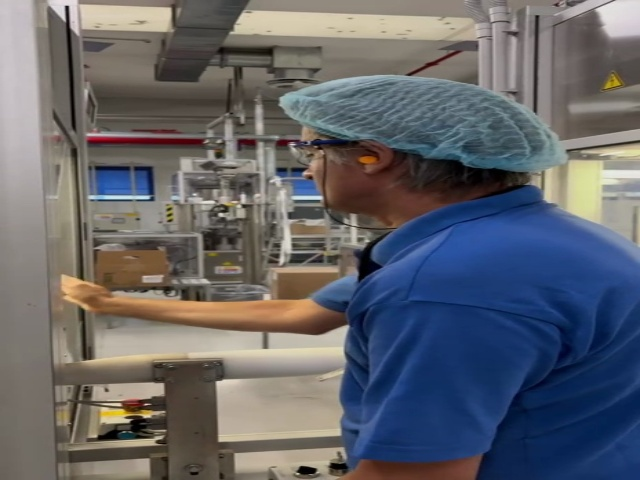Earplug: (348, 142, 396, 175)
Hairnet: (280, 70, 566, 172)
No_Helmet: (279, 72, 562, 168)
No_Vest: (341, 229, 640, 480)
Person: (278, 68, 640, 480)
Safety_Goggles: (288, 138, 358, 167)
